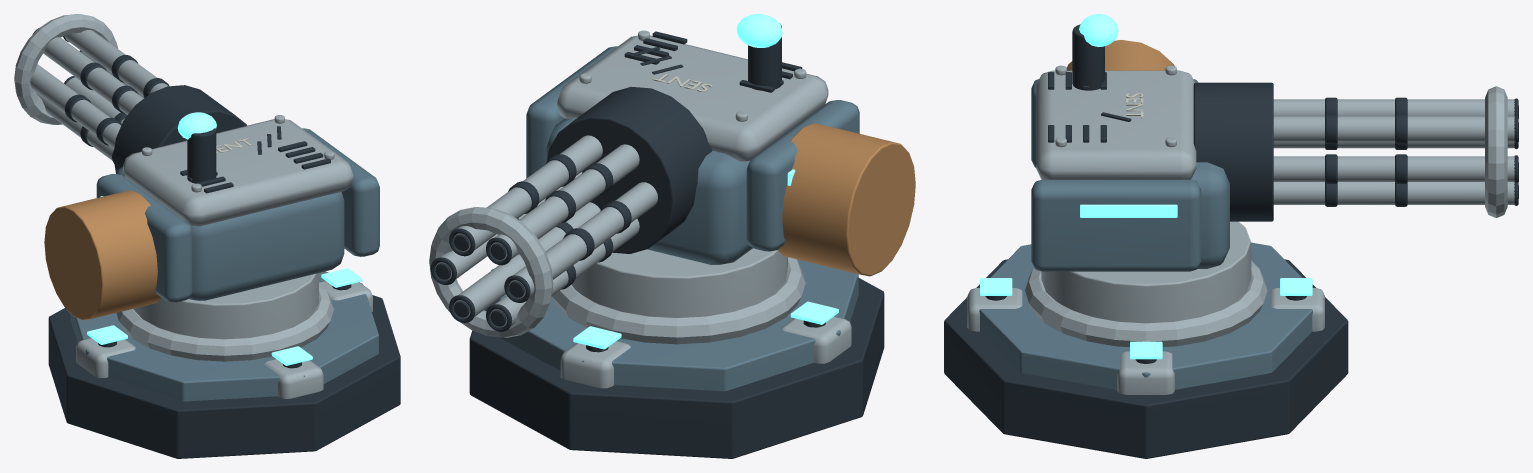
The model's file is 05_assault_reaper.glb.
3 views of the same model, side by side, from view 1: azimuth 30°, elevation 25°; view 2: azimuth 150°, elevation 25°; view 3: azimuth 270°, elevation 25° (orthographic). The views are drawn at different scales.
Parts seen in each view (by area): view 1: Anchor deck, Armored cradle, Bearing, Top carapace, Ammo drum, Beveled plinth, Barrel jacket, Cooling vent, Muzzle rim, Safety flash, Identification strip; view 2: Anchor deck, Bearing, Barrel jacket, Ammo drum, Cooling vent, Top carapace, Armored cradle, Beveled plinth, Muzzle rim, Safety flash, Identification strip; view 3: Anchor deck, Barrel jacket, Bearing, Armored cradle, Beveled plinth, Top carapace, Cooling vent, Muzzle rim, Identification strip, Safety flash, Ammo drum.
Part boxes in pixels (box(x1,y1,x2,y2)): Anchor deck: box(48, 284, 400, 458); Armored cradle: box(96, 128, 379, 302); Bearing: box(76, 273, 372, 398); Top carapace: box(123, 115, 353, 226); Ammo drum: box(44, 190, 161, 320); Beveled plinth: box(70, 271, 378, 401); Barrel jacket: box(14, 14, 168, 160); Cooling vent: box(113, 85, 330, 193); Muzzle rim: box(32, 28, 169, 163); Safety flash: box(87, 268, 362, 365); Identification strip: box(100, 112, 216, 196); Anchor deck: box(469, 269, 884, 458); Bearing: box(552, 248, 851, 388); Barrel jacket: box(429, 135, 657, 337); Ammo drum: box(778, 123, 915, 276); Cooling vent: box(547, 24, 802, 253); Top carapace: box(557, 30, 828, 161); Armored cradle: box(526, 46, 859, 264); Beveled plinth: box(499, 259, 858, 391); Muzzle rim: box(430, 154, 631, 331); Safety flash: box(573, 301, 838, 349); Identification strip: box(736, 14, 795, 185); Anchor deck: box(944, 259, 1348, 458); Barrel jacket: box(1273, 86, 1514, 217); Bearing: box(967, 221, 1324, 394); Armored cradle: box(1031, 79, 1229, 271); Beveled plinth: box(969, 242, 1323, 389); Top carapace: box(1036, 65, 1196, 179); Cooling vent: box(1048, 24, 1273, 221); Muzzle rim: box(1325, 97, 1518, 206); Identification strip: box(1079, 14, 1177, 217); Safety flash: box(980, 278, 1312, 359); Ammo drum: box(1066, 40, 1177, 70).
Size of the model in its own units: 1.64 by 1.46 by 2.3.
